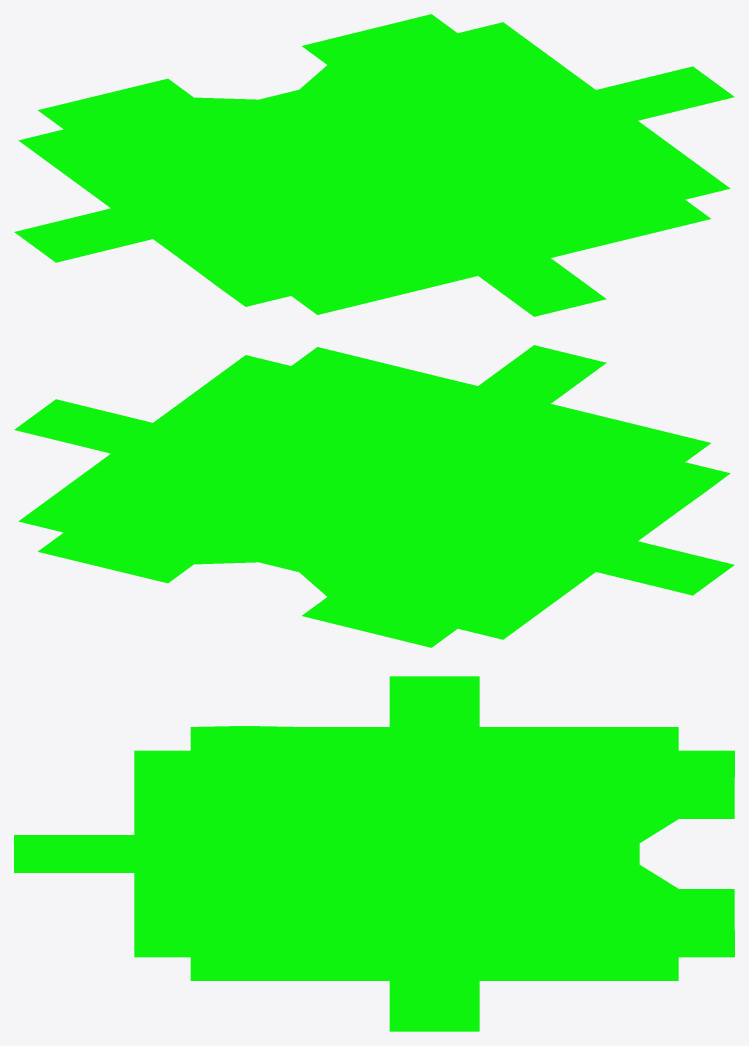
File: s04b_tb3-floor.glb
3 renders of one model, top to bottom at view 1: azimuth 30°, elevation 25°; view 2: azimuth 150°, elevation 25°; view 3: azimuth 270°, elevation 25°, orthographic. The views are drawn at different scales.
Visible parts, largest first — view 1: collision_floor-colonly; view 2: collision_floor-colonly; view 3: collision_floor-colonly.
Boxes of the visible parts, x1,y1,x2,y2 form: collision_floor-colonly: [14, 14, 734, 316]; collision_floor-colonly: [14, 345, 734, 647]; collision_floor-colonly: [14, 676, 734, 1031].
Size of the model in its own units: 56 by 0.0488 by 47.99.
